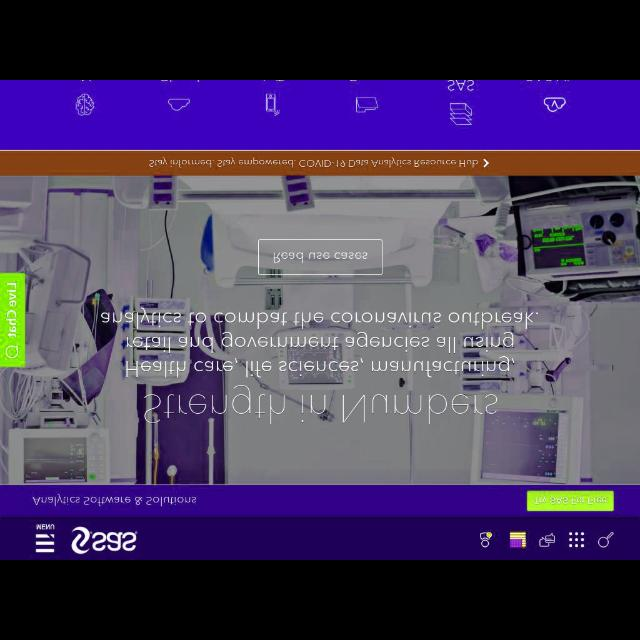backgroundimage: (385, 177, 639, 306)
icon: (35, 533, 55, 553), (568, 530, 586, 548), (597, 531, 615, 549), (539, 532, 555, 548), (5, 345, 18, 359), (482, 158, 490, 168)
image: (70, 526, 138, 554), (451, 102, 474, 126), (76, 94, 94, 116), (356, 95, 378, 113), (266, 92, 280, 116), (544, 98, 566, 112), (510, 530, 526, 548), (168, 98, 190, 110), (480, 531, 492, 547)
panel: (0, 176, 638, 484), (1, 82, 640, 150), (1, 486, 640, 518), (1, 150, 640, 176)
text: (101, 307, 539, 377), (143, 384, 497, 424), (150, 157, 478, 167), (32, 494, 196, 506), (274, 251, 368, 263), (6, 282, 18, 338), (534, 496, 606, 504), (448, 81, 474, 91), (36, 523, 56, 529)
textbutton: (258, 239, 382, 275), (1, 274, 26, 366), (526, 491, 614, 511)
toolbar: (1, 519, 639, 559)
